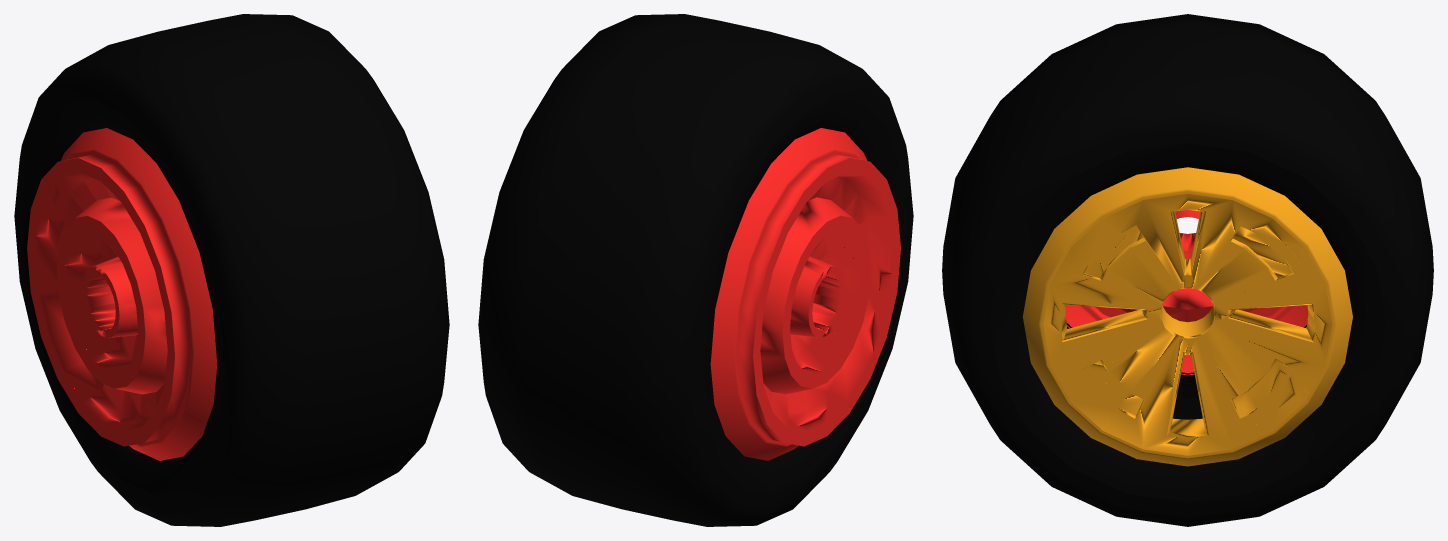
File: Wheel_FL.obj
The picture shows the model from 3 angles, left to right: view 1: azimuth 30°, elevation 25°; view 2: azimuth 150°, elevation 25°; view 3: azimuth 270°, elevation 25°; orthographic projection. The views are drawn at different scales.
Parts seen in each view (by area): view 1: Wheel_FL; view 2: Wheel_FL; view 3: Wheel_FL.
Boxes of the visible parts, x1,y1,x2,y2 form: Wheel_FL: (14, 14, 449, 526); Wheel_FL: (478, 14, 913, 526); Wheel_FL: (942, 14, 1433, 526).
Bounding box in the file's own units: 1.08 × 1.92 × 1.92.
